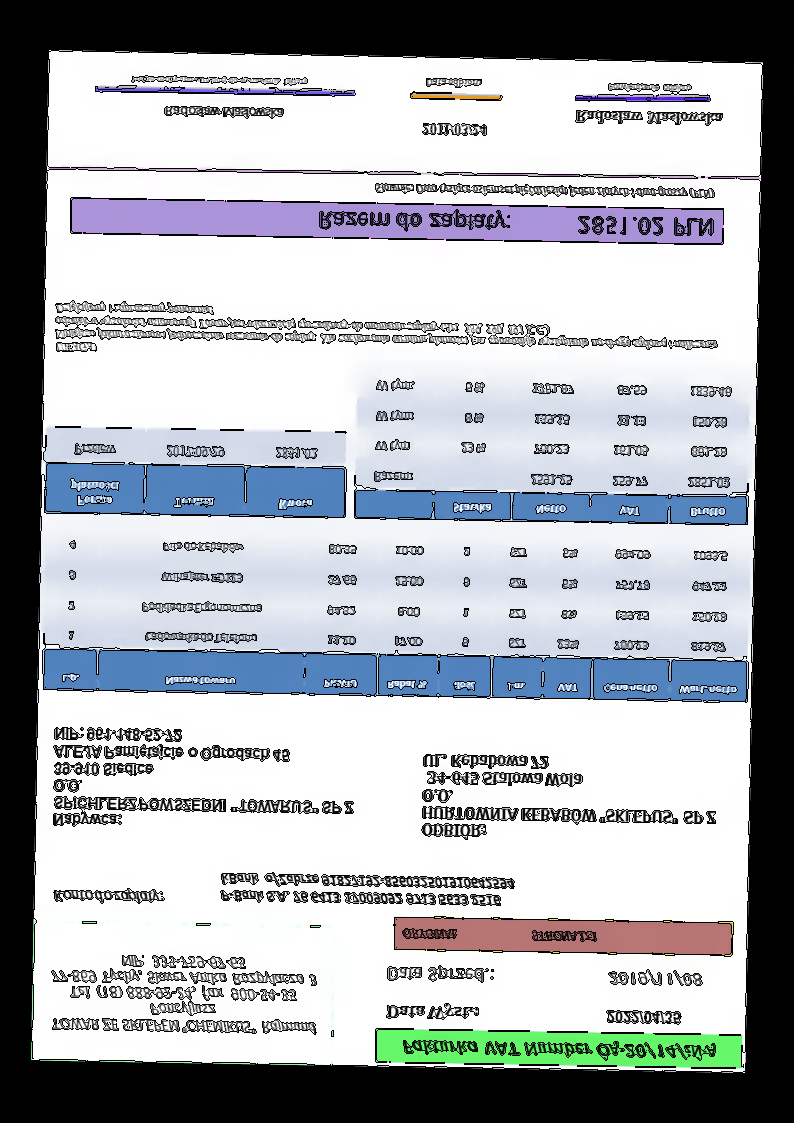Table: (41, 526, 750, 706), (351, 367, 750, 528), (44, 426, 346, 519)
TextBox: (54, 299, 723, 369), (49, 723, 359, 836), (417, 750, 721, 846), (45, 949, 322, 1041), (316, 205, 715, 241), (216, 868, 519, 911), (397, 1034, 720, 1064), (372, 178, 718, 204), (398, 923, 601, 946), (129, 72, 312, 91), (572, 106, 724, 128), (49, 884, 166, 910), (383, 961, 498, 986), (161, 104, 287, 123), (605, 967, 706, 990), (383, 1000, 483, 1023), (603, 1008, 683, 1029), (417, 119, 490, 140), (607, 80, 694, 95), (422, 75, 485, 92)
